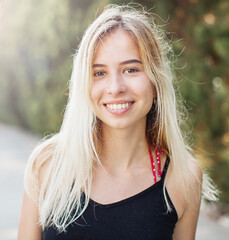teen: (57, 7, 174, 133)
